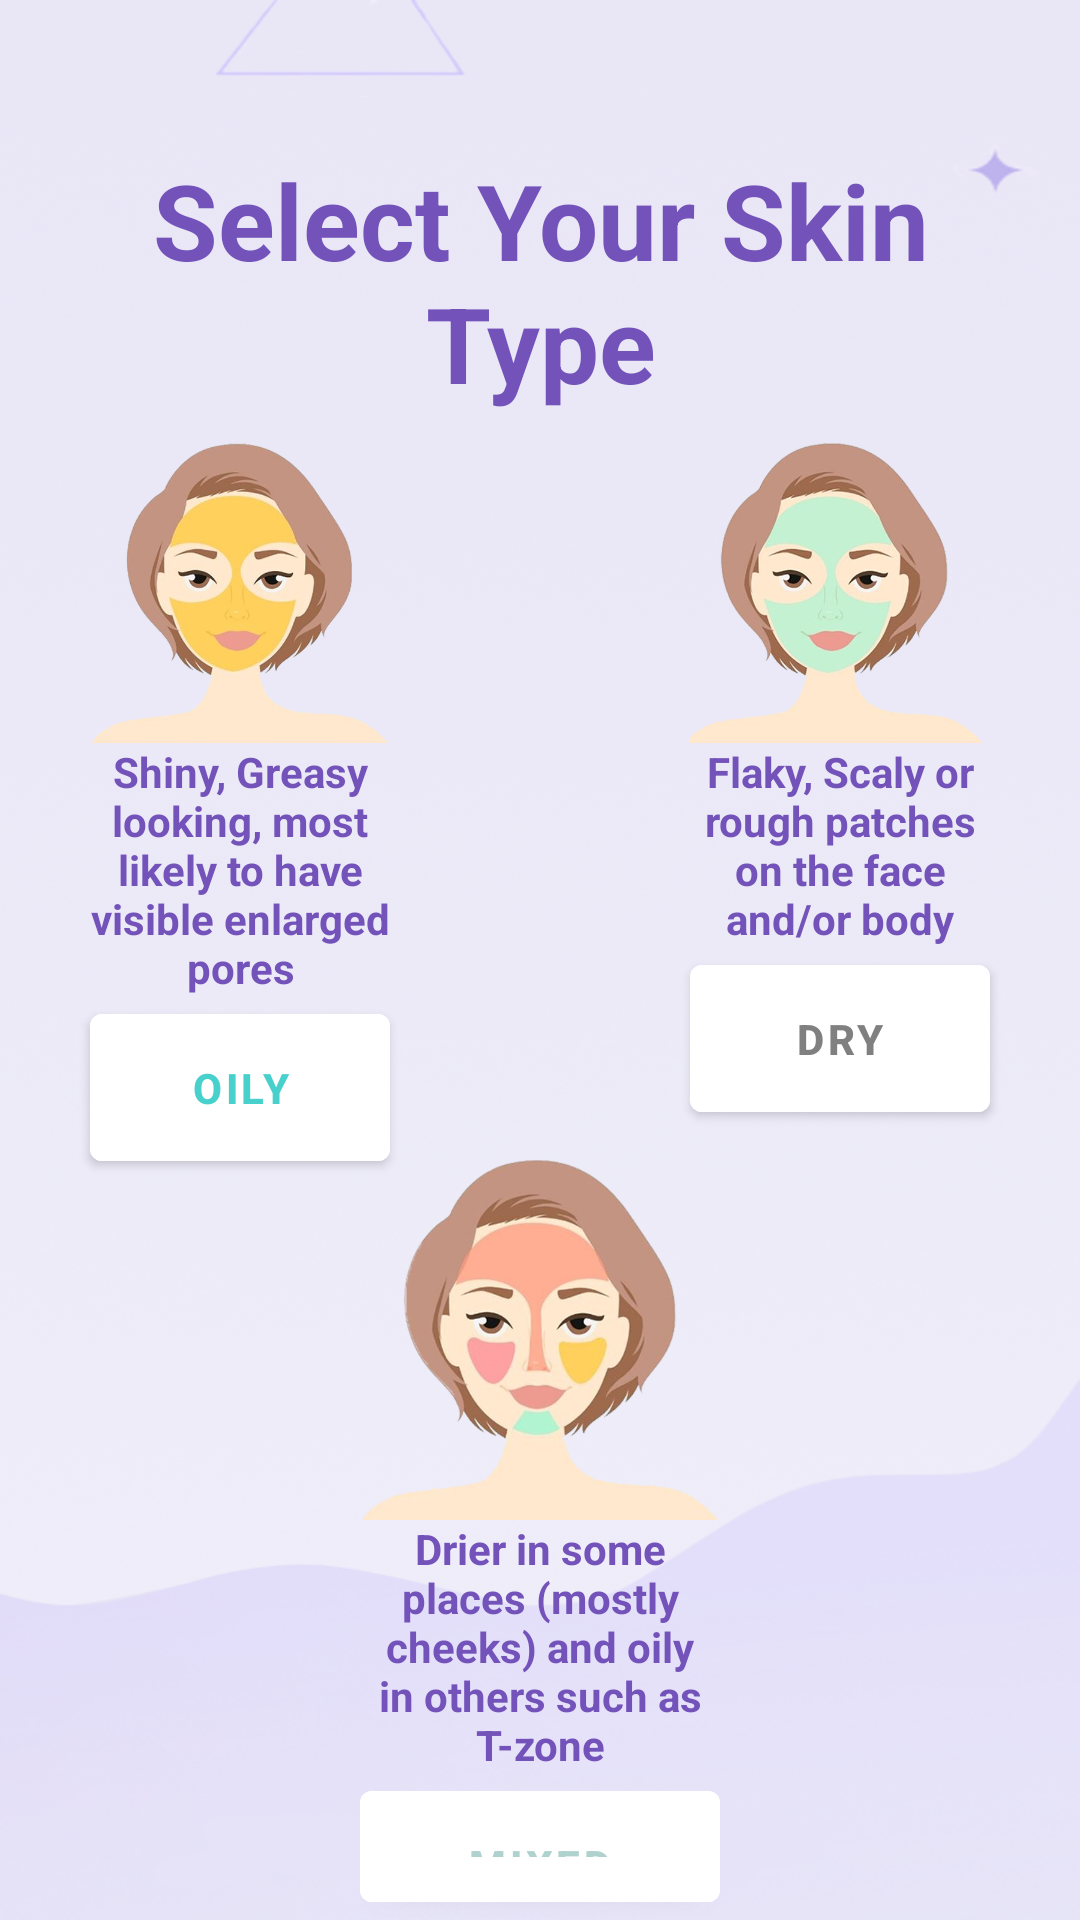

Screen size 1080 x 1920. Icon name, then its box in pixels as BBox(x1, y1, x2, y2):
dry: BBox(690, 443, 982, 743)
mixed: BBox(363, 1160, 718, 1520)
oily: BBox(92, 444, 388, 743)
